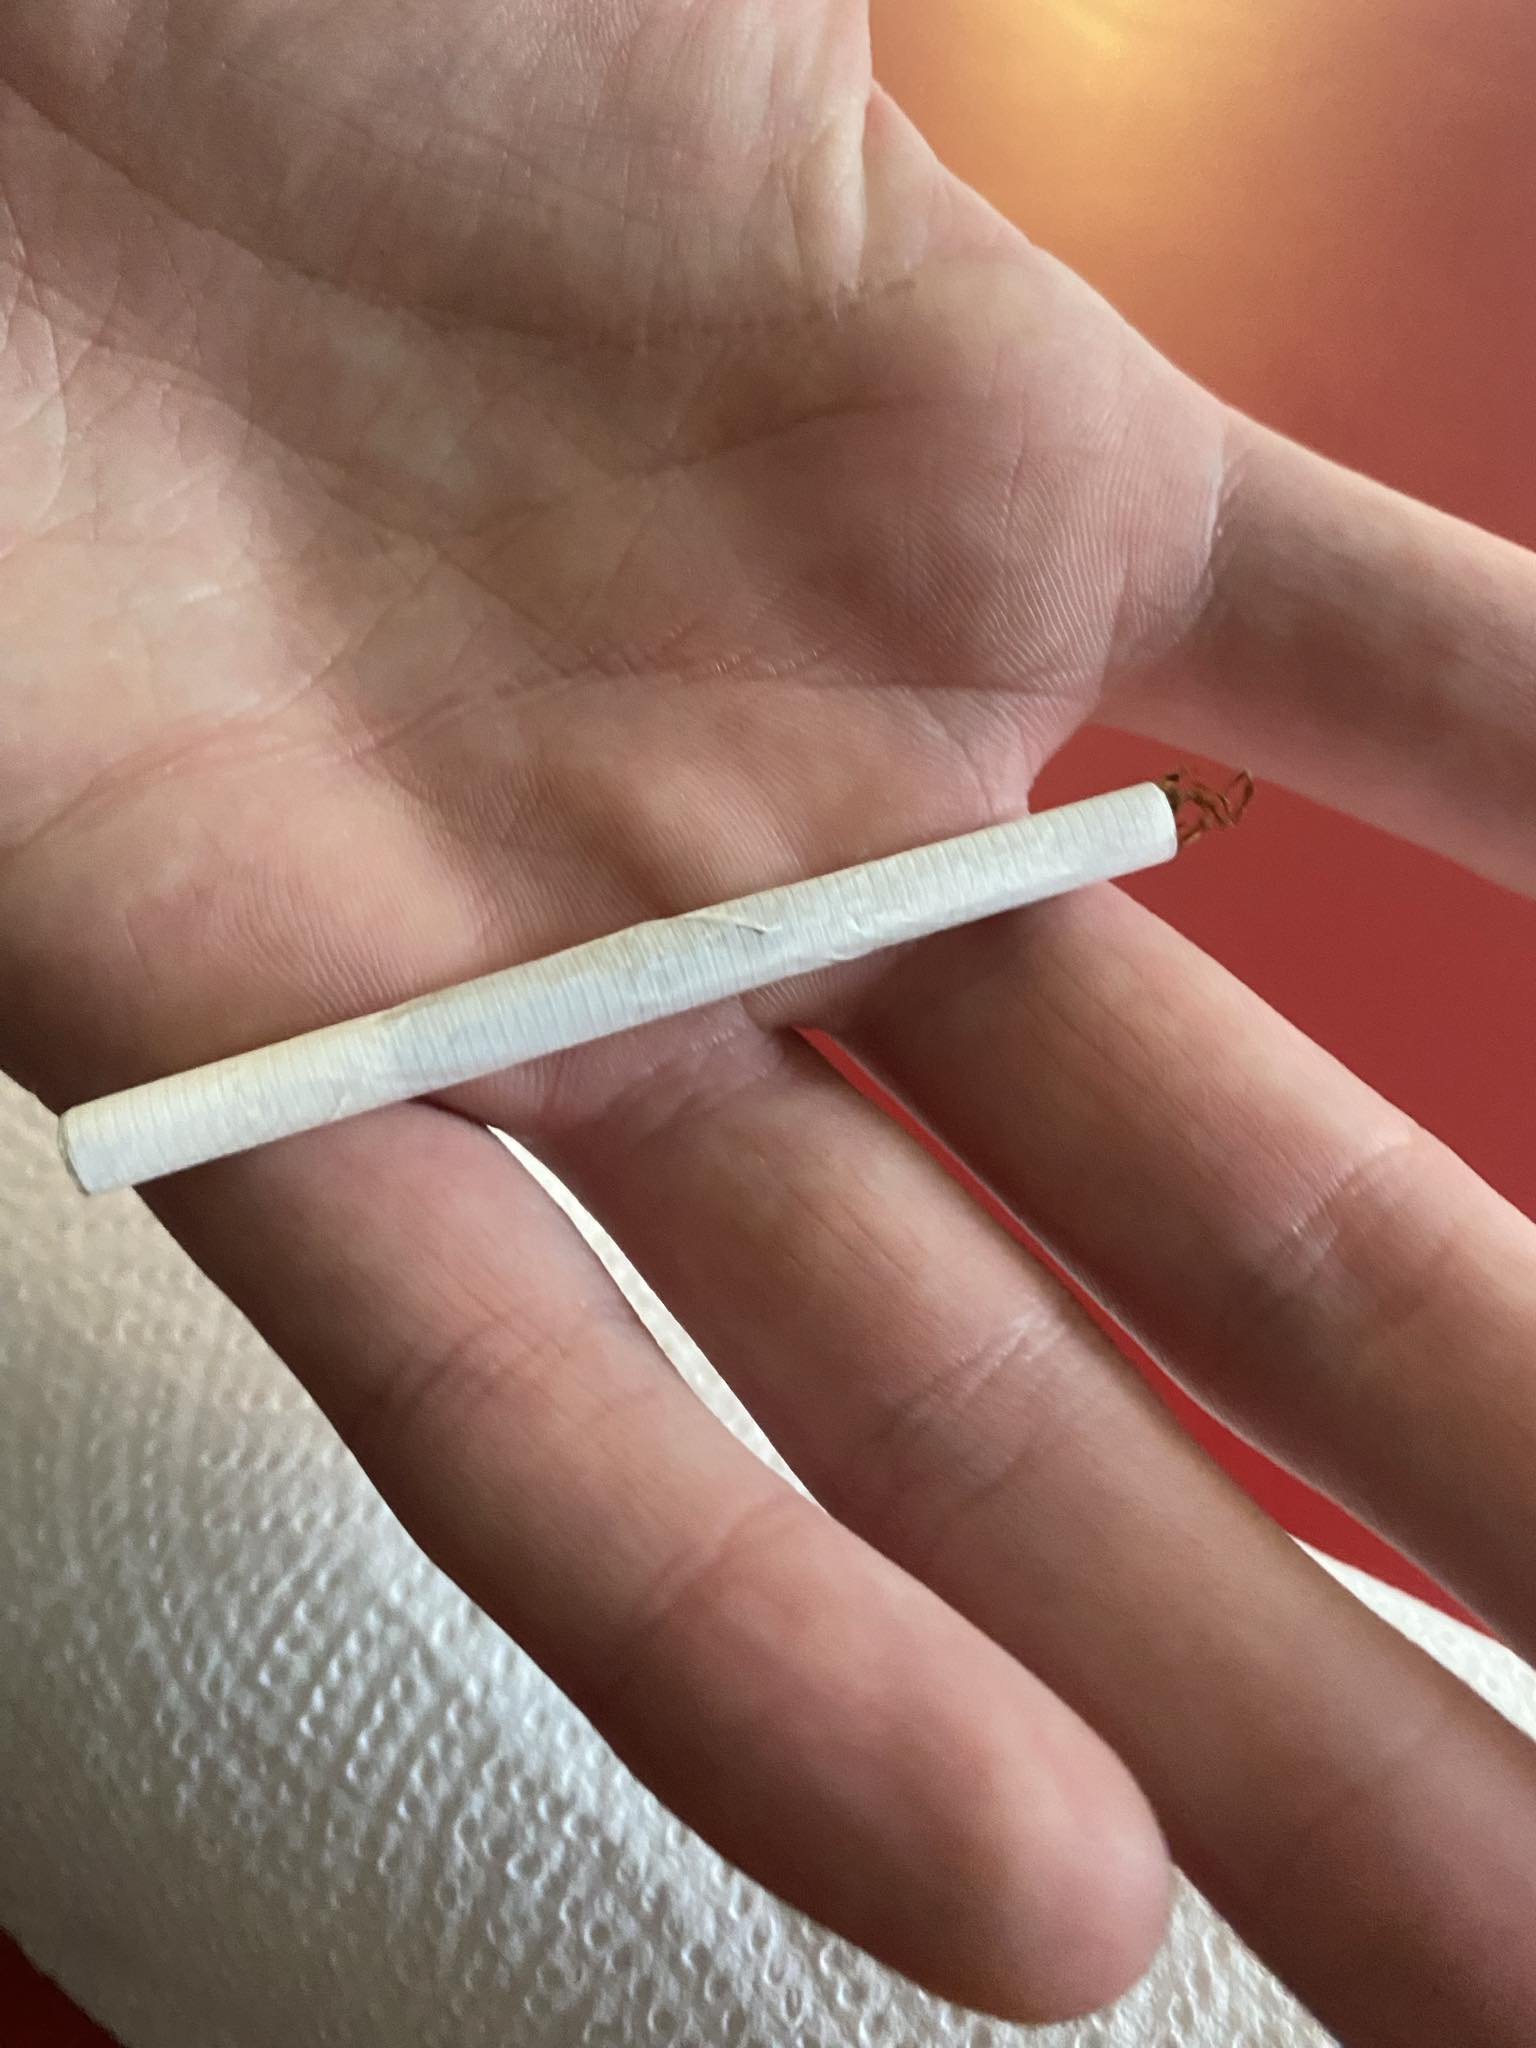Cigarette: (58, 769, 1239, 1198)
